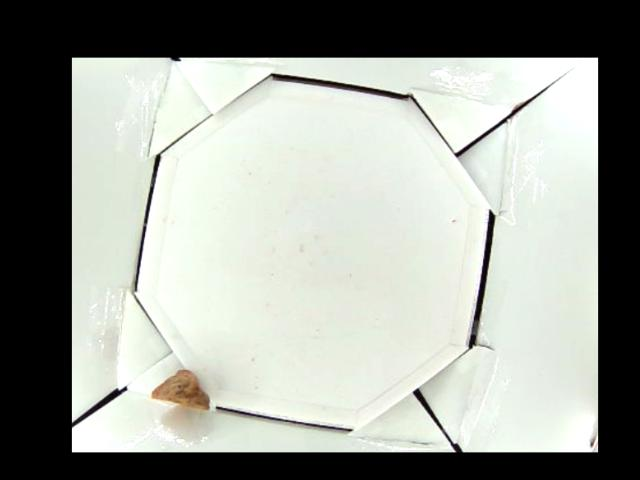Brisk: (150, 369, 210, 405)
